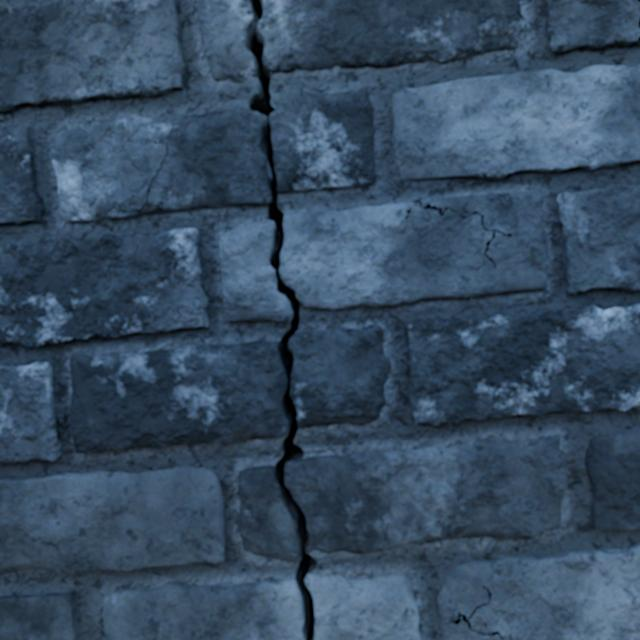broken_brick: (285, 434, 568, 553), (279, 190, 548, 310), (51, 108, 271, 221), (70, 340, 288, 453), (257, 0, 525, 72), (103, 579, 302, 639), (271, 87, 376, 192), (289, 324, 390, 427), (305, 573, 422, 639), (219, 221, 292, 322), (238, 466, 298, 562), (196, 0, 256, 81)
crack: (244, 0, 317, 639), (390, 64, 639, 180), (406, 303, 639, 426), (0, 228, 209, 348), (0, 467, 225, 574), (0, 0, 187, 112), (437, 544, 639, 639), (557, 185, 639, 294), (410, 200, 512, 269), (0, 362, 61, 464), (585, 426, 639, 531), (545, 0, 639, 53), (0, 126, 45, 226), (0, 591, 78, 639), (132, 142, 168, 213), (175, 442, 204, 445), (405, 206, 411, 220), (298, 184, 321, 187)
